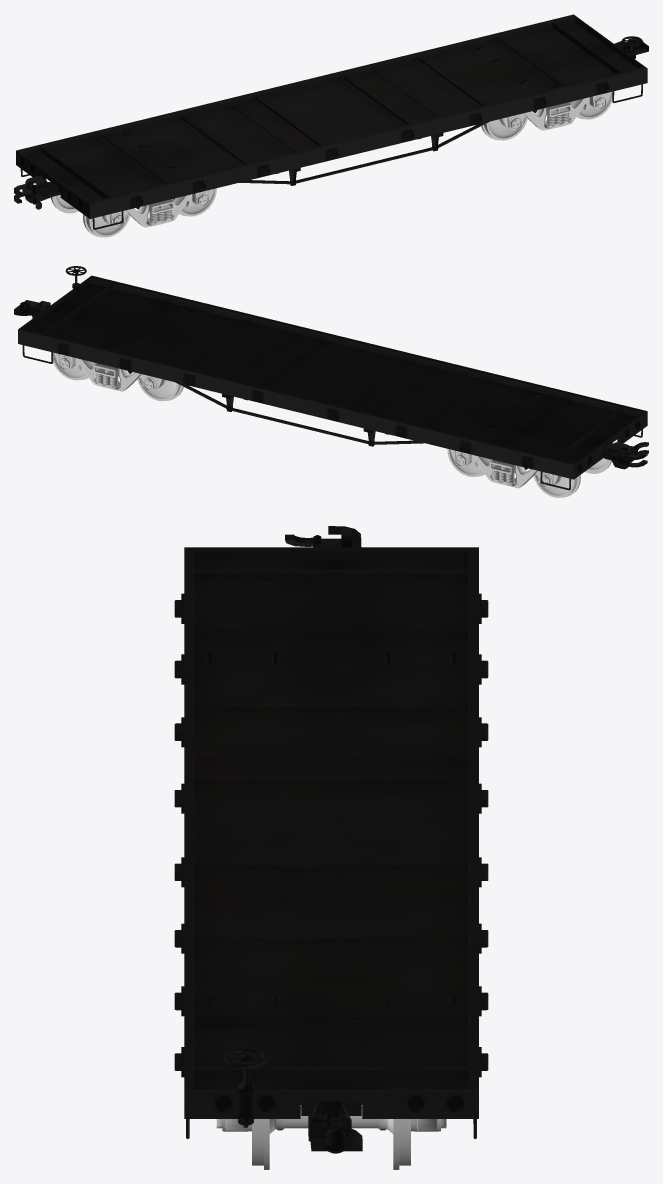
Rendered from last.fbx.
3 renders of one model, top to bottom at view 1: azimuth 30°, elevation 25°; view 2: azimuth 150°, elevation 25°; view 3: azimuth 270°, elevation 25°, orthographic. The views are drawn at different scales.
Parts seen in each view (by area): view 1: 11815_Flat_car_v1_L1; view 2: 11815_Flat_car_v1_L1; view 3: 11815_Flat_car_v1_L1.
Part boxes in pixels (x1,y1,x2,y2): 11815_Flat_car_v1_L1: [14, 14, 648, 237]; 11815_Flat_car_v1_L1: [14, 266, 648, 497]; 11815_Flat_car_v1_L1: [174, 526, 488, 1169].
Bounding box in the file's own units: 135161 × 14998 × 29394.
